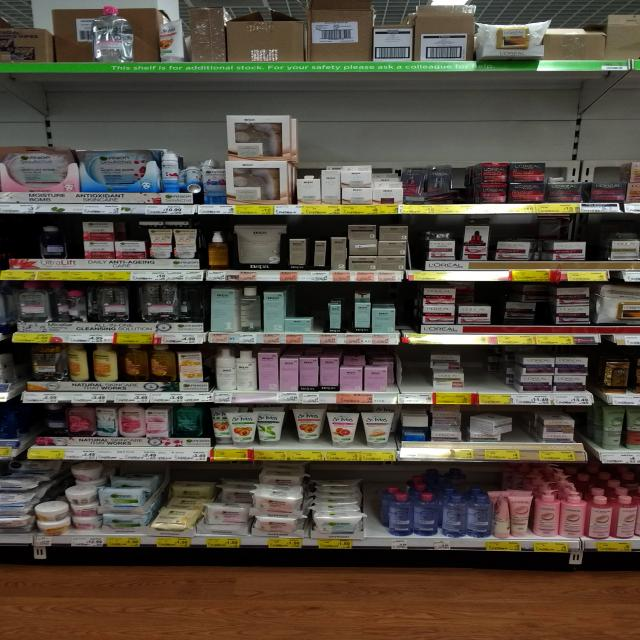empty_space: (400, 354, 432, 390), (464, 358, 496, 390), (365, 492, 383, 538)
